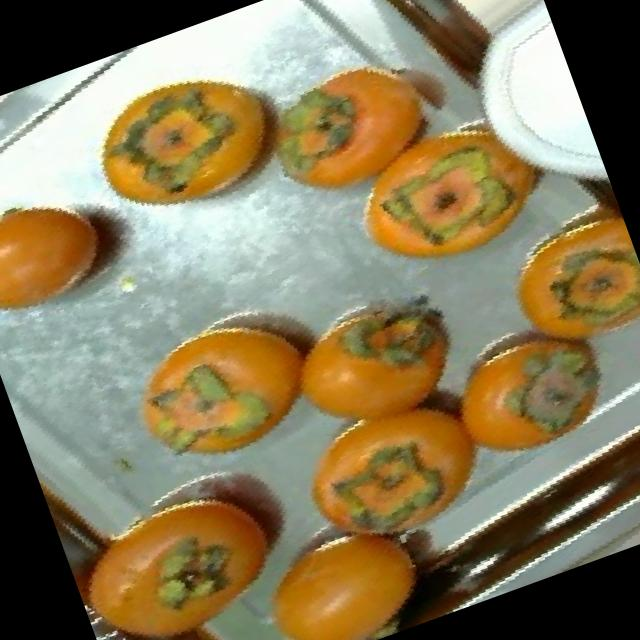Fruit: (51, 32, 319, 264), (222, 486, 465, 640), (471, 191, 640, 384), (0, 154, 150, 348)
